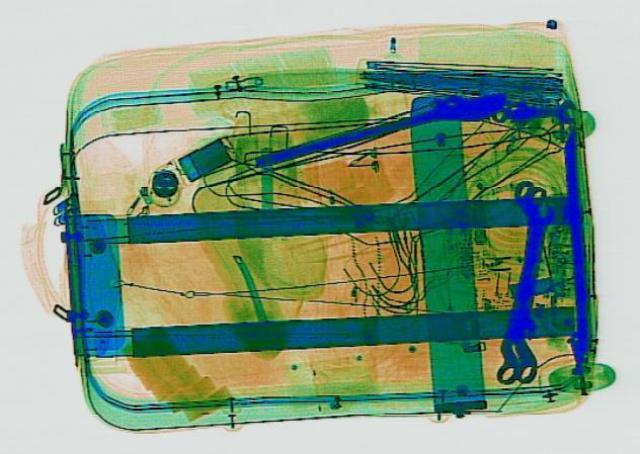Wrench: (246, 78, 516, 179), (489, 184, 548, 381), (512, 178, 538, 381)
